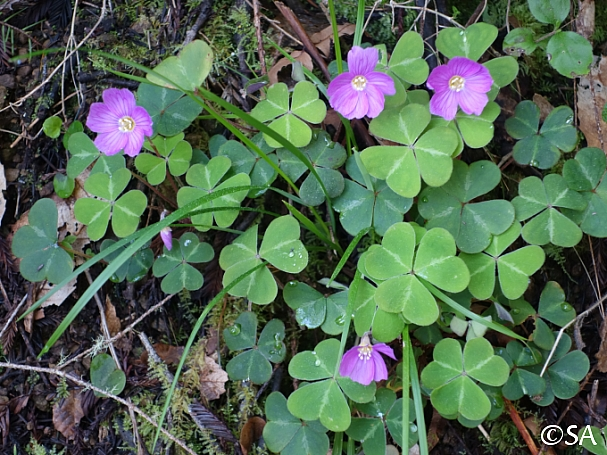oxalis: (152, 53, 599, 423)
